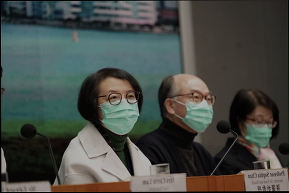with_mask: (96, 84, 141, 134), (174, 86, 216, 132), (240, 112, 277, 149)
